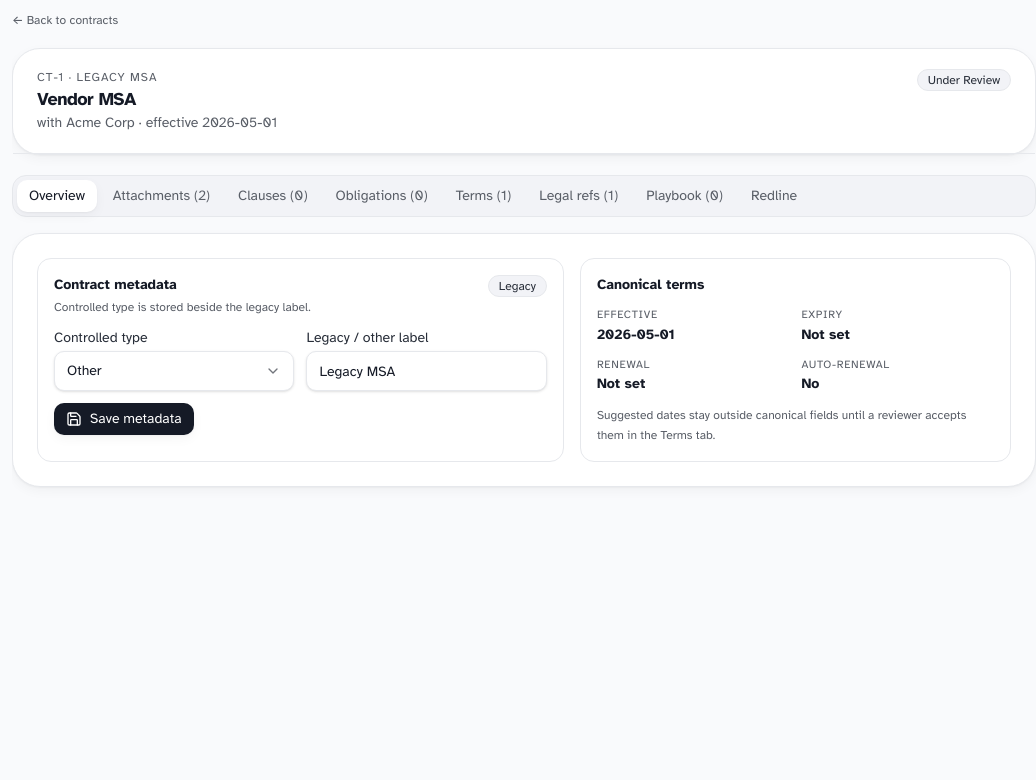
ContractDetailPage › renders legal references, term suggestions, and attachment roles
The width and height of the screenshot is (1036, 780).
Check: the heading "Vendor MSA" is shown, box 37,88 -> 136,110
Step 1. Click the tab "Attachments (2)" → (161,196), box 101,180 -> 222,212
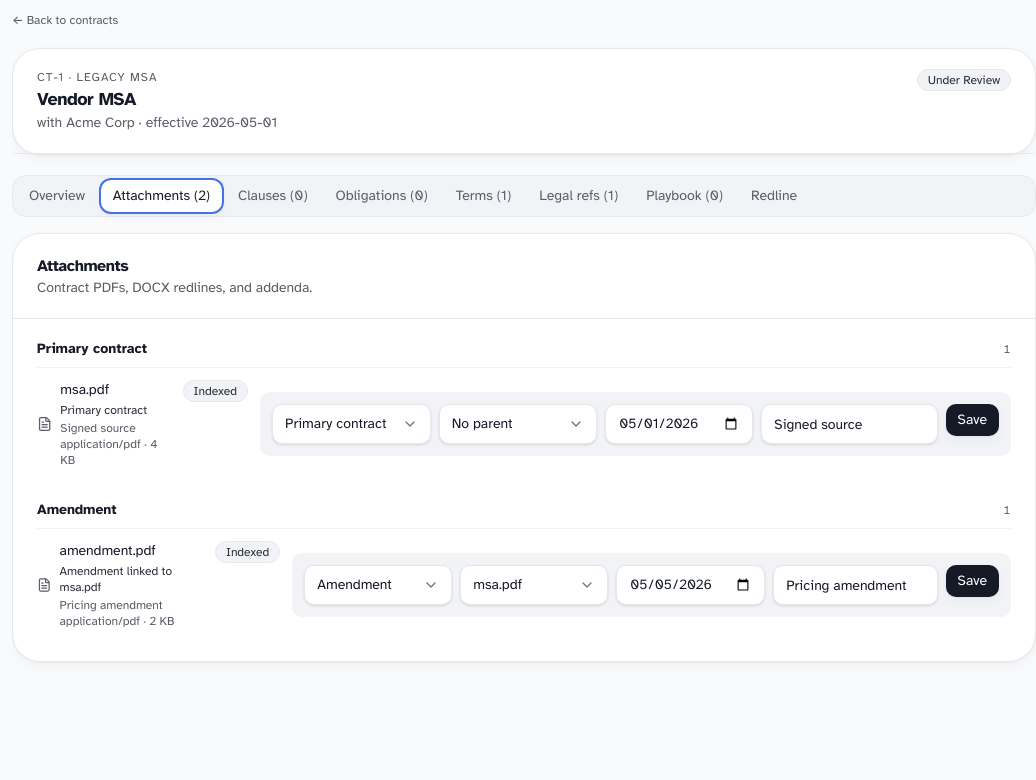
Check: the heading "Primary contract" is shown, box 37,339 -> 147,359
Check: the heading "Amendment" is shown, box 37,500 -> 117,520
Check: the text "Signed source" is shown, box 60,421 -> 136,435
Step 2. Click the tab "Legal refs (1)" → (579,196), box 527,180 -> 630,212
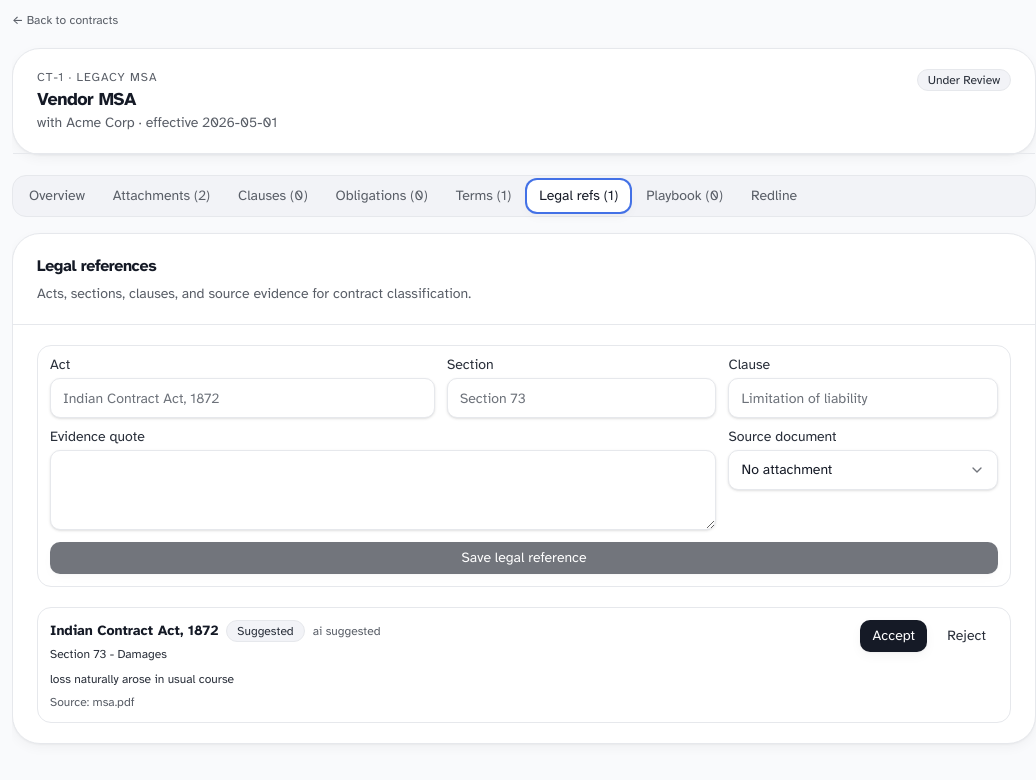
Check: the text "Indian Contract Act, 1872" is shown, box 50,621 -> 218,641
Check: the text "loss naturally arose in usual course" is shown, box 50,672 -> 234,686
Step 3. Click the tab "Terms (1)" → (483,196), box 444,180 -> 523,212
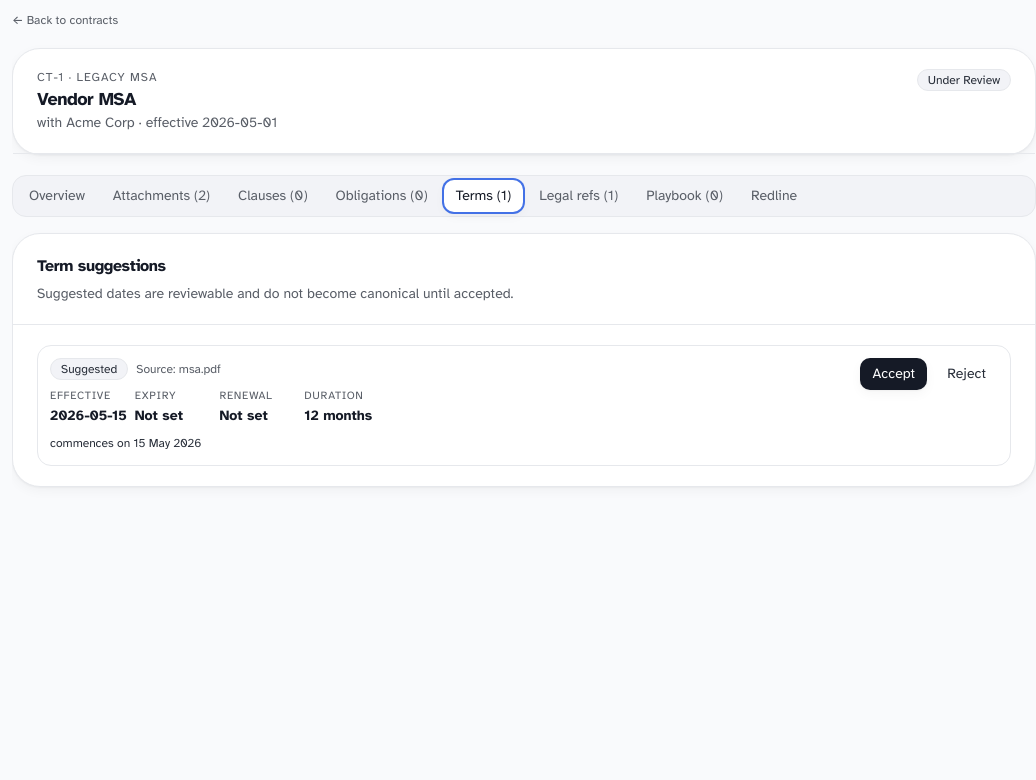
Check: the text "2026-05-15" is shown, box 50,406 -> 127,426
Check: the text "12 months" is shown, box 304,406 -> 381,426
